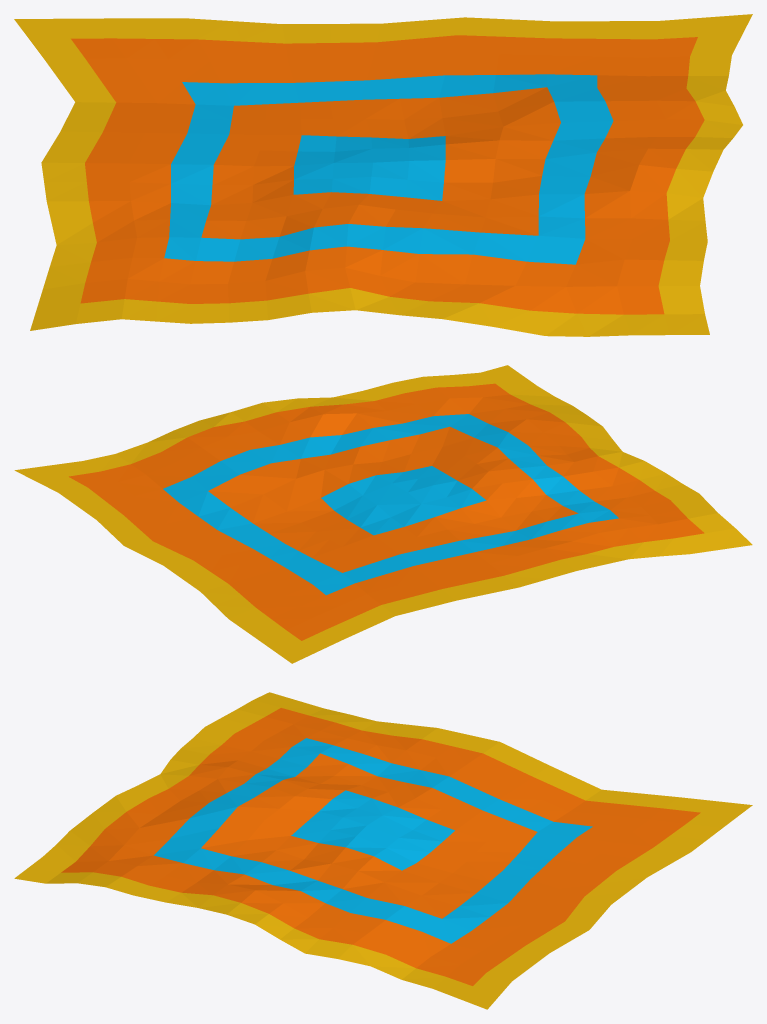
File: SL_Carpet.fbx
3 views of the same model, one above another, from view 1: azimuth 30°, elevation 25°; view 2: azimuth 150°, elevation 25°; view 3: azimuth 270°, elevation 25° (orthographic). The views are drawn at different scales.
Visible parts, largest first — view 1: SL_House1.003; view 2: SL_House1.003; view 3: SL_House1.003.
Part boxes in pixels (left/top/right/bottom): SL_House1.003: left=14, top=14, right=752, bottom=336; SL_House1.003: left=14, top=365, right=752, bottom=663; SL_House1.003: left=14, top=692, right=752, bottom=1009.
Bounding box in the file's own units: 1768 × 61.31 × 1748.
